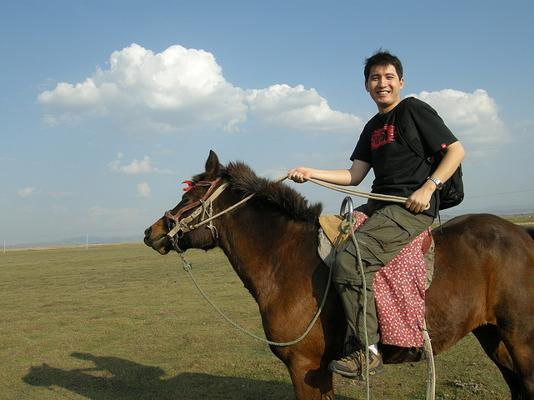person: (328, 53, 468, 379)
